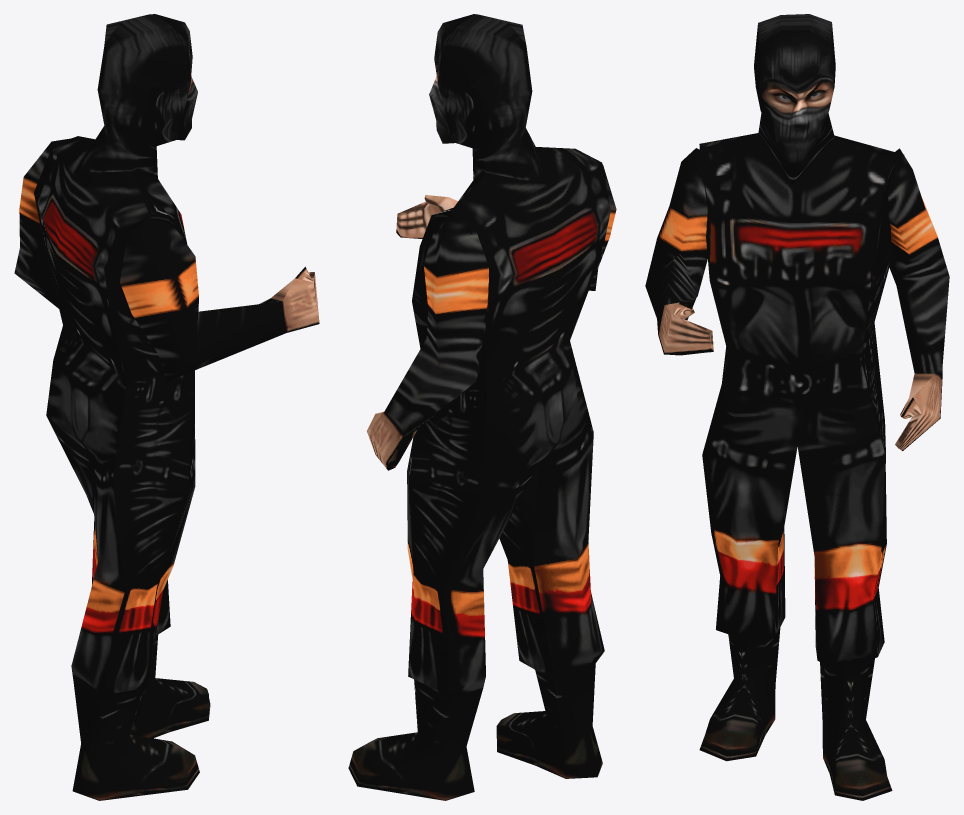
The model's file is spy2.glb.
The picture shows the model from 3 angles, left to right: view 1: azimuth 30°, elevation 25°; view 2: azimuth 150°, elevation 25°; view 3: azimuth 270°, elevation 25°; orthographic projection.
Parts seen in each view (by area): view 1: spy2; view 2: spy2; view 3: spy2.
Part boxes in pixels (x1,y1,x2,y2): spy2: [14, 14, 319, 800]; spy2: [348, 14, 616, 800]; spy2: [645, 14, 949, 800].
Bounding box in the file's own units: 23.41 × 74.5 × 28.01.
Materials: 1 (1 with a texture image).
